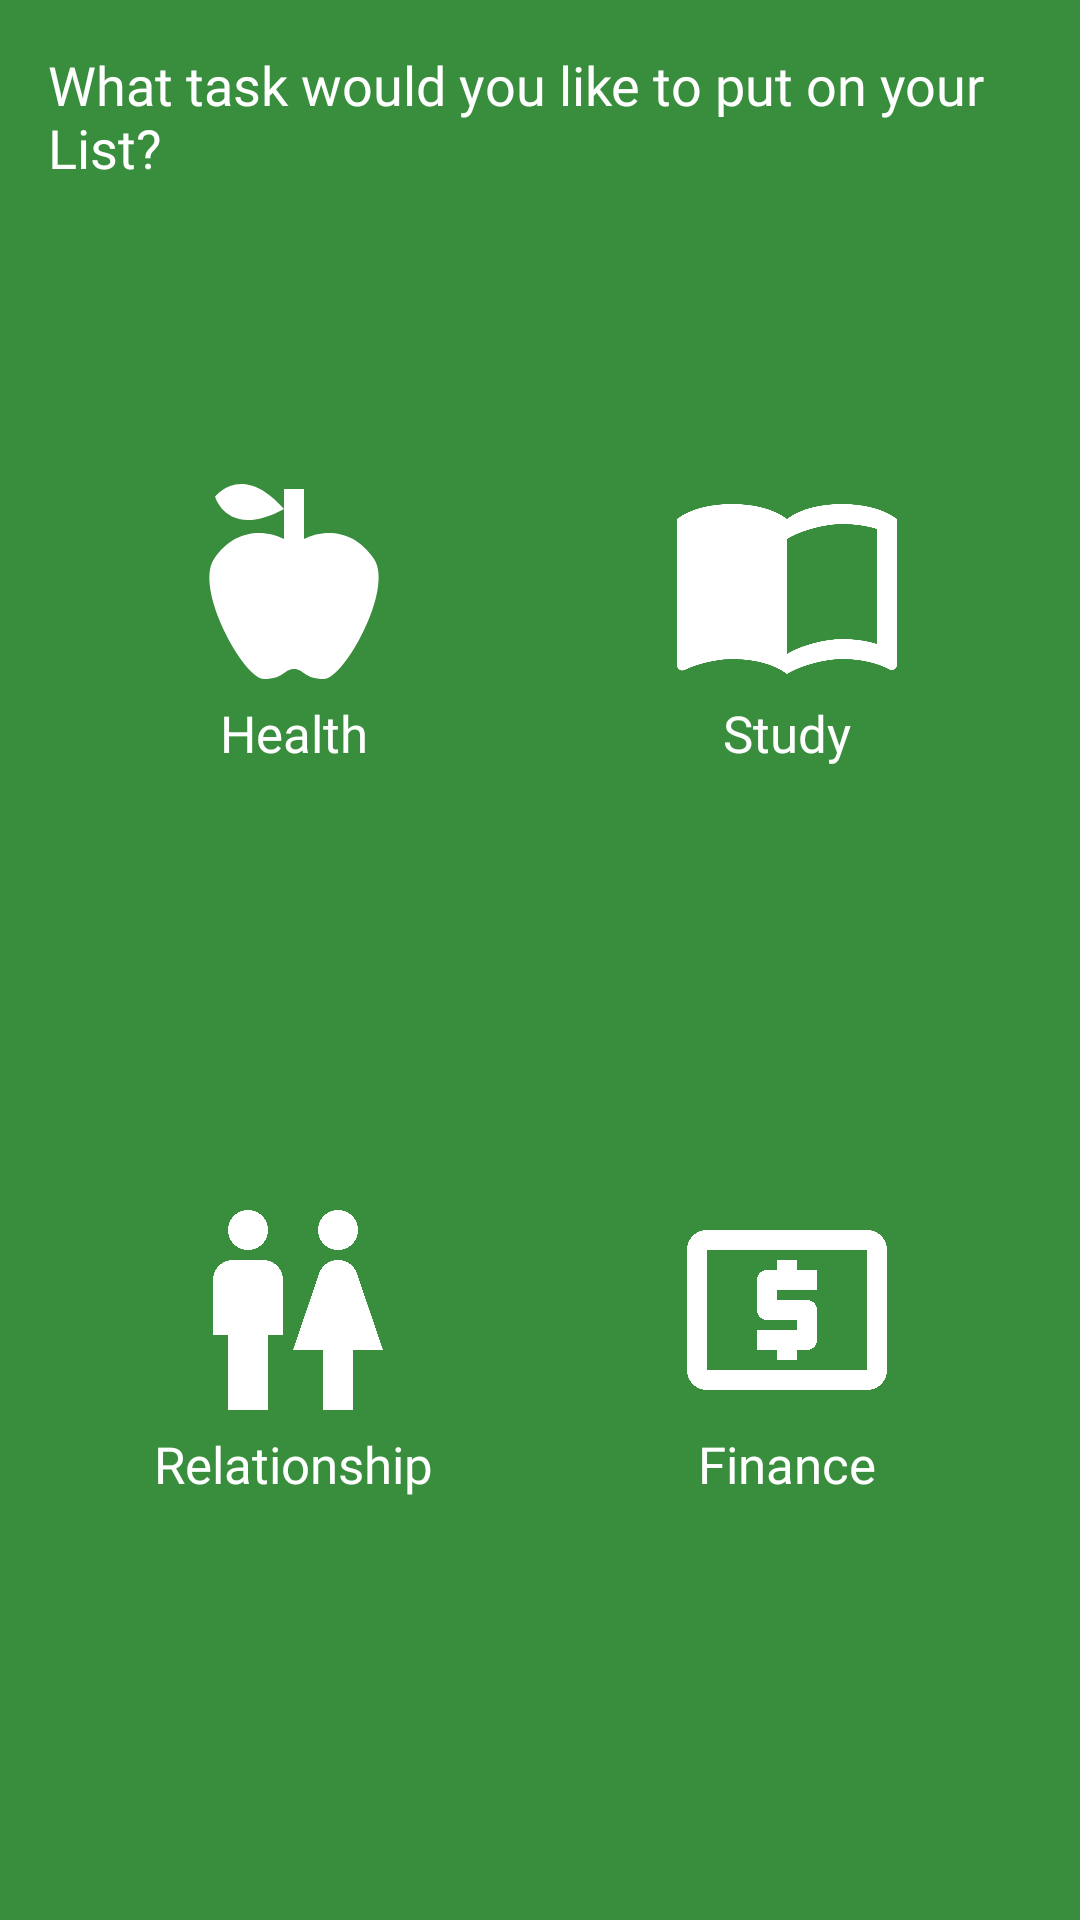

Where icons sit on this 1080px x 1920px app screen, as (x1, y1, x2, y2):
apple: (209, 484, 379, 679)
book: (677, 504, 897, 674)
couple: (213, 1210, 383, 1410)
dollar: (687, 1230, 887, 1390)
